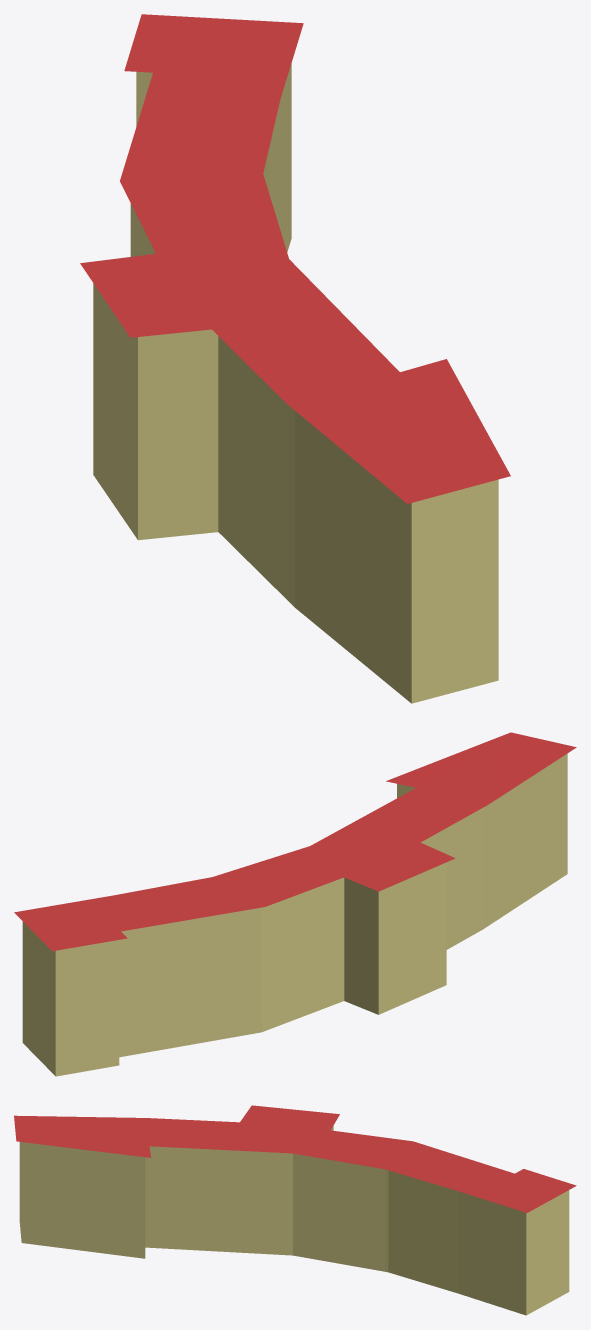
3 views of the same model, one above another, from view 1: azimuth 30°, elevation 25°; view 2: azimuth 150°, elevation 25°; view 3: azimuth 270°, elevation 25° (orthographic). The views are drawn at different scales.
Bounding box in the file's own units: 11.97 × 26.01 × 5.39.
